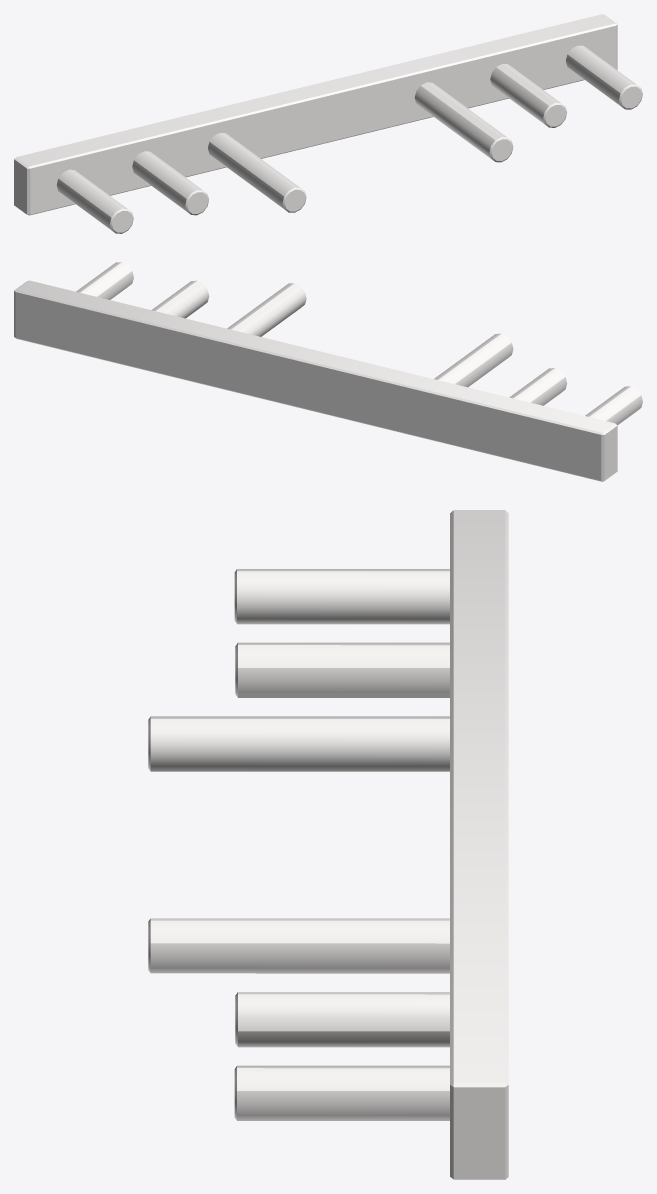
Rendered from Hanger.fbx.
The picture shows the model from 3 angles, top to bottom: view 1: azimuth 30°, elevation 25°; view 2: azimuth 150°, elevation 25°; view 3: azimuth 270°, elevation 25°; orthographic projection. The views are drawn at different scales.
Visible parts, largest first — view 1: Hanger; view 2: Hanger; view 3: Hanger.
Part boxes in pixels (x1=…): Hanger: x1=14, y1=14, x2=642, y2=233; Hanger: x1=14, y1=262, x2=642, y2=481; Hanger: x1=148, y1=510, x2=508, y2=1179.
Bounding box in the file's own units: 88.77 × 7.05 × 23.45.
